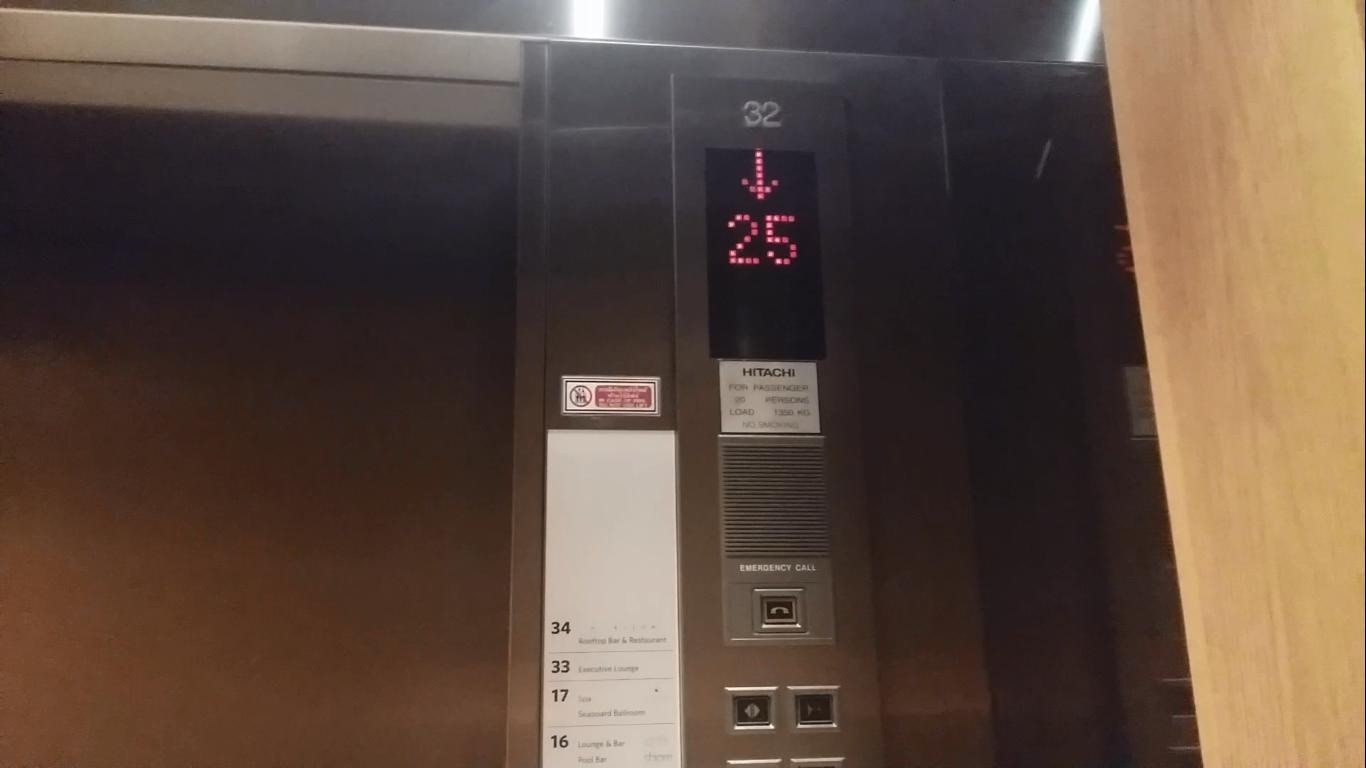call: (753, 587, 804, 632)
close: (787, 685, 845, 733)
led: (705, 144, 825, 365)
open: (726, 685, 779, 736)
